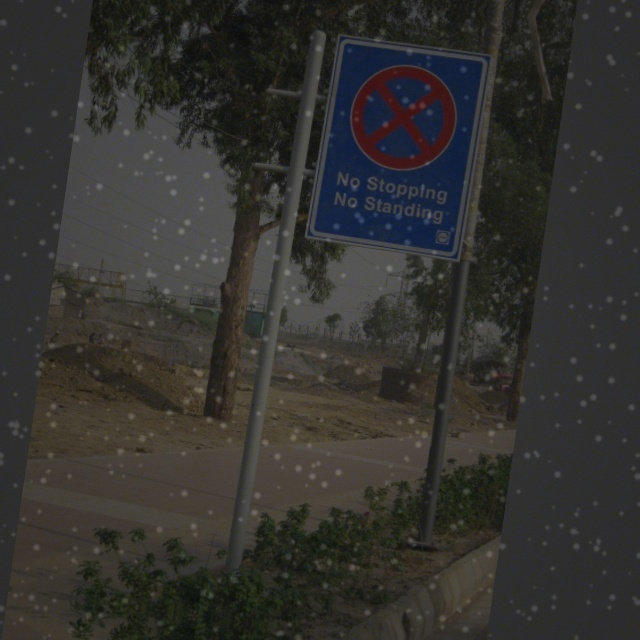No_Stopping_or_Standing: (334, 43, 471, 183)
